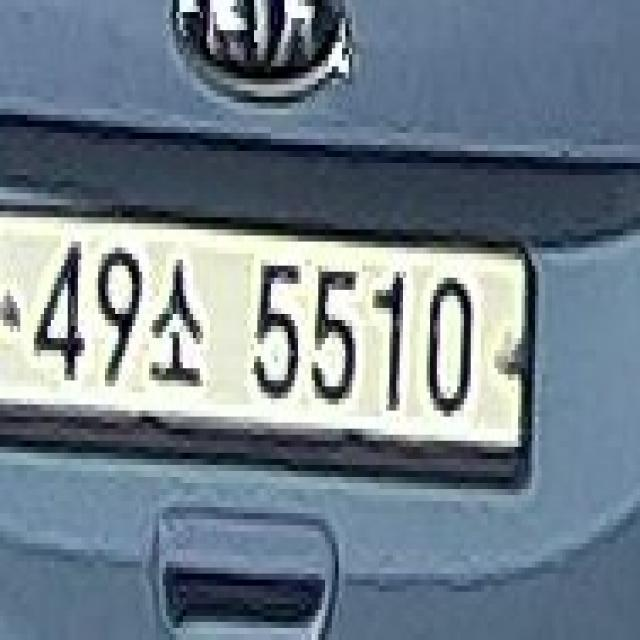0: (423, 270, 479, 430)
1: (368, 260, 412, 414)
4: (31, 240, 87, 384)
5: (309, 261, 362, 408), (252, 258, 304, 403)
9: (98, 232, 142, 392)
license_plate: (4, 200, 542, 494)
so: (146, 244, 206, 396)
